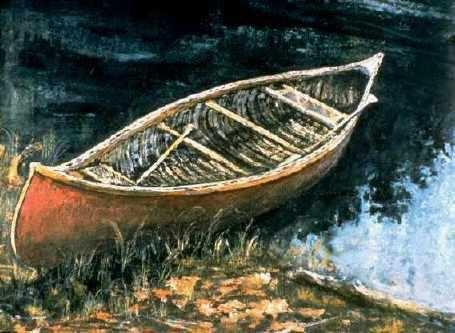kayak: (10, 53, 380, 270)
